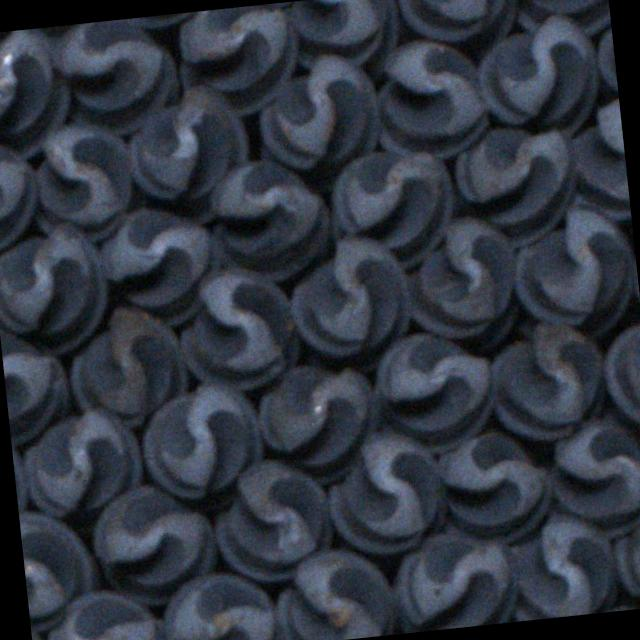tool_b: (282, 230, 420, 378), (124, 77, 254, 232), (507, 202, 640, 346), (253, 50, 385, 190), (326, 141, 460, 275), (366, 325, 500, 458), (470, 10, 602, 144), (322, 422, 451, 559), (400, 212, 520, 358), (204, 153, 336, 284), (204, 456, 337, 586), (95, 201, 226, 331), (251, 356, 380, 488), (173, 262, 301, 395), (88, 481, 220, 609), (451, 122, 578, 254), (52, 14, 184, 141), (65, 303, 192, 431), (485, 317, 610, 447), (366, 36, 489, 166), (138, 378, 264, 504), (0, 217, 111, 360), (16, 402, 146, 522), (436, 428, 560, 552), (174, 1, 302, 119), (24, 115, 138, 244), (388, 522, 518, 634), (504, 508, 620, 622), (271, 542, 396, 640), (546, 416, 640, 543), (284, 0, 405, 92), (0, 25, 75, 159), (157, 563, 285, 640), (19, 510, 100, 630), (0, 318, 75, 445), (564, 98, 632, 238), (397, 0, 520, 64), (39, 583, 165, 640), (0, 128, 41, 250), (510, 0, 611, 41)
